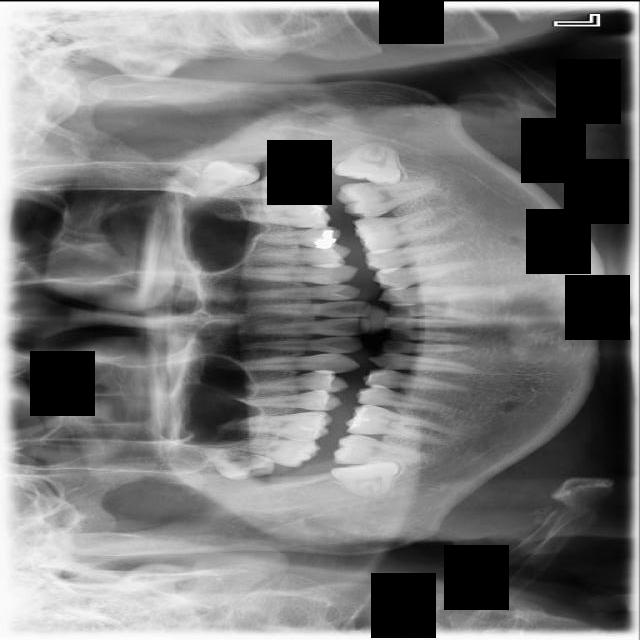3M ESPE Implant: (194, 442, 278, 486)
52: (306, 223, 341, 251)
73: (562, 64, 582, 64)
BioHorizons Implant: (196, 169, 320, 201)
BioLife Implant: (180, 149, 262, 202)
Biomet 3i Implant: (333, 131, 408, 188)
Blue Sky Bio Implant: (336, 177, 441, 220)
Implant: (334, 433, 433, 466)
Keystone Dental Implant: (330, 454, 404, 505)
